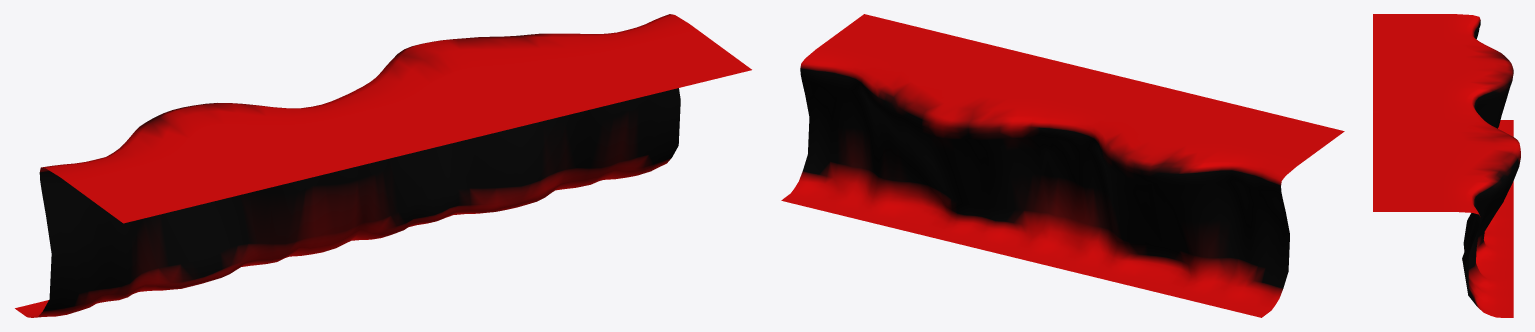
Rendered from GroundCliff02A 1M Foreground.fbx.
3 renders of one model, left to right at view 1: azimuth 30°, elevation 25°; view 2: azimuth 150°, elevation 25°; view 3: azimuth 270°, elevation 25°, orthographic. The views are drawn at different scales.
Parts seen in each view (by area): view 1: GroundCliff02A 1M Foreground; view 2: GroundCliff02A 1M Foreground; view 3: GroundCliff02A 1M Foreground.
Part boxes in pixels (x1,y1,x2,y2): GroundCliff02A 1M Foreground: [15, 14, 751, 317]; GroundCliff02A 1M Foreground: [781, 14, 1344, 317]; GroundCliff02A 1M Foreground: [1373, 14, 1520, 317].
Bounding box in the file's own units: 4 × 1 × 1.26.
